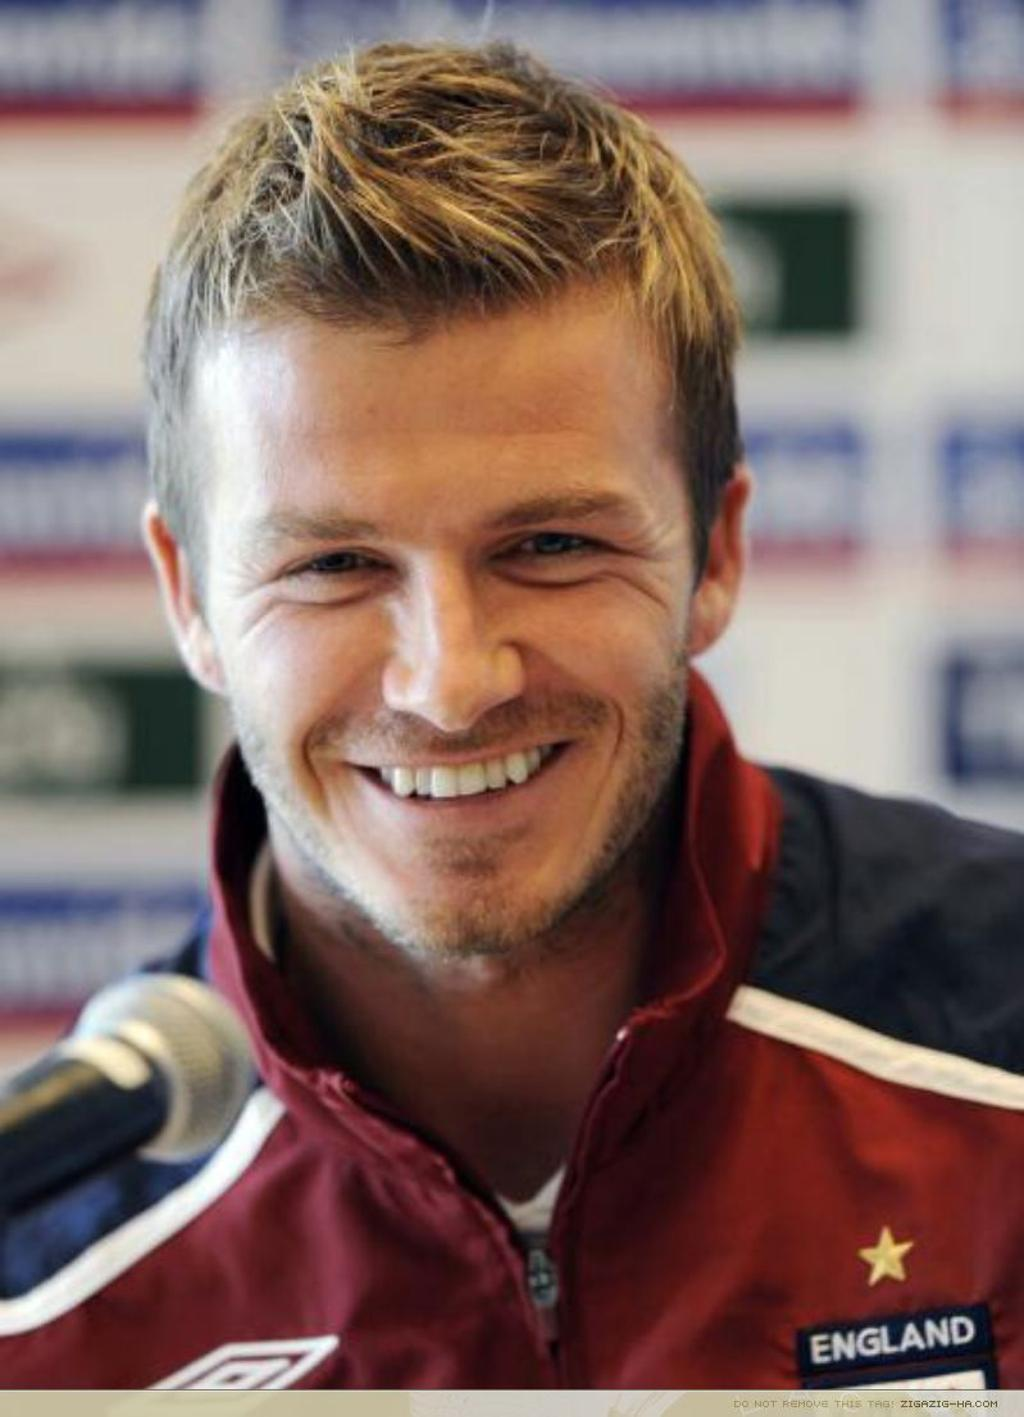face: (202, 296, 697, 957)
